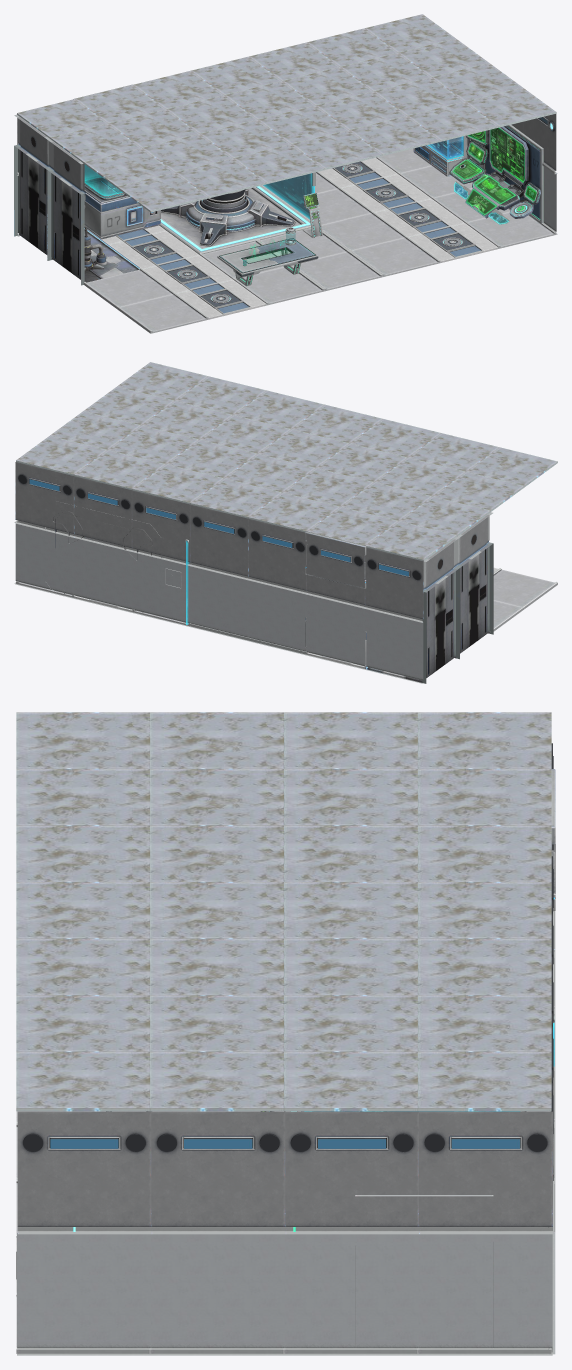
Rendered from scifi1.glb.
3 renders of one model, top to bottom at view 1: azimuth 30°, elevation 25°; view 2: azimuth 150°, elevation 25°; view 3: azimuth 270°, elevation 25°, orthographic. The views are drawn at different scales.
Parts seen in each view (by area): view 1: scifi1.glb; view 2: scifi1.glb; view 3: scifi1.glb.
Part boxes in pixels (bbox=[...]): scifi1.glb: bbox=[14, 14, 557, 333]; scifi1.glb: bbox=[14, 362, 557, 683]; scifi1.glb: bbox=[16, 712, 555, 1355].
Size of the model in its own units: 10.49 by 3 by 5.97.
Materials: 28 (24 with a texture image).
